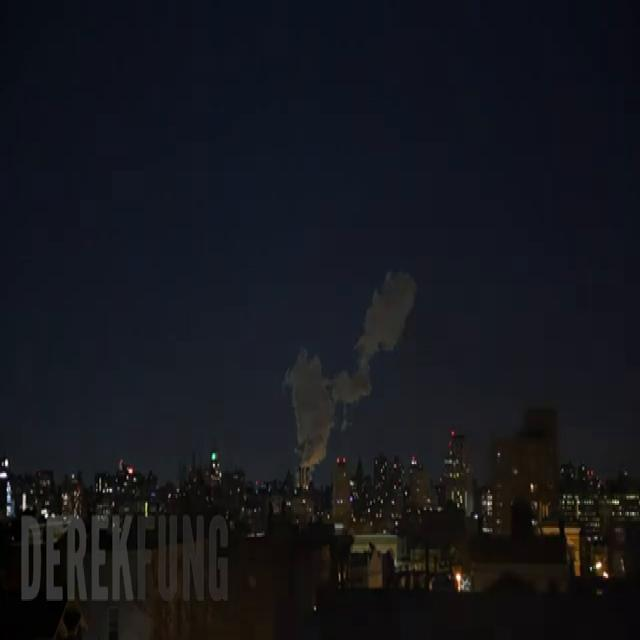smoke: (284, 272, 416, 487)
